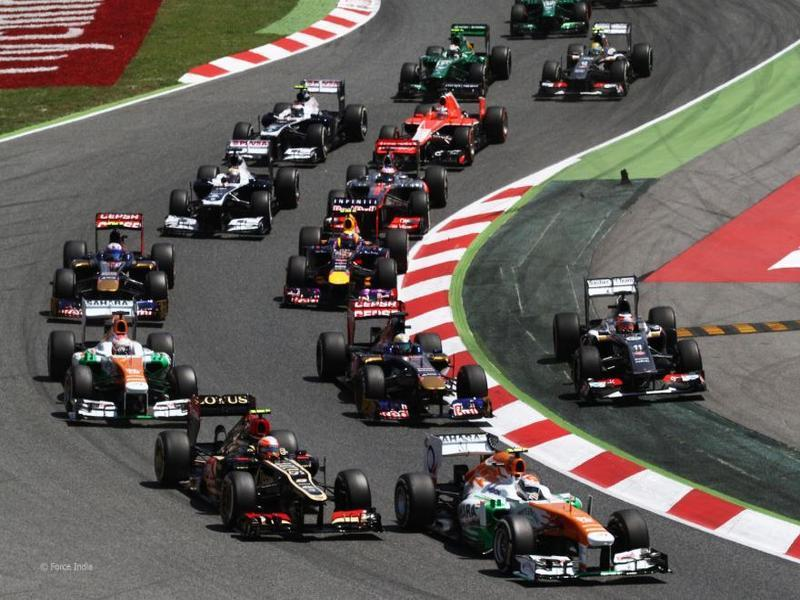f1: (393, 432, 673, 584), (155, 399, 384, 550), (545, 275, 723, 403), (311, 313, 499, 434), (56, 303, 205, 425), (51, 215, 190, 320), (163, 153, 309, 246), (294, 201, 408, 306), (228, 75, 363, 163), (398, 13, 509, 102), (539, 16, 649, 102), (392, 94, 511, 173)
